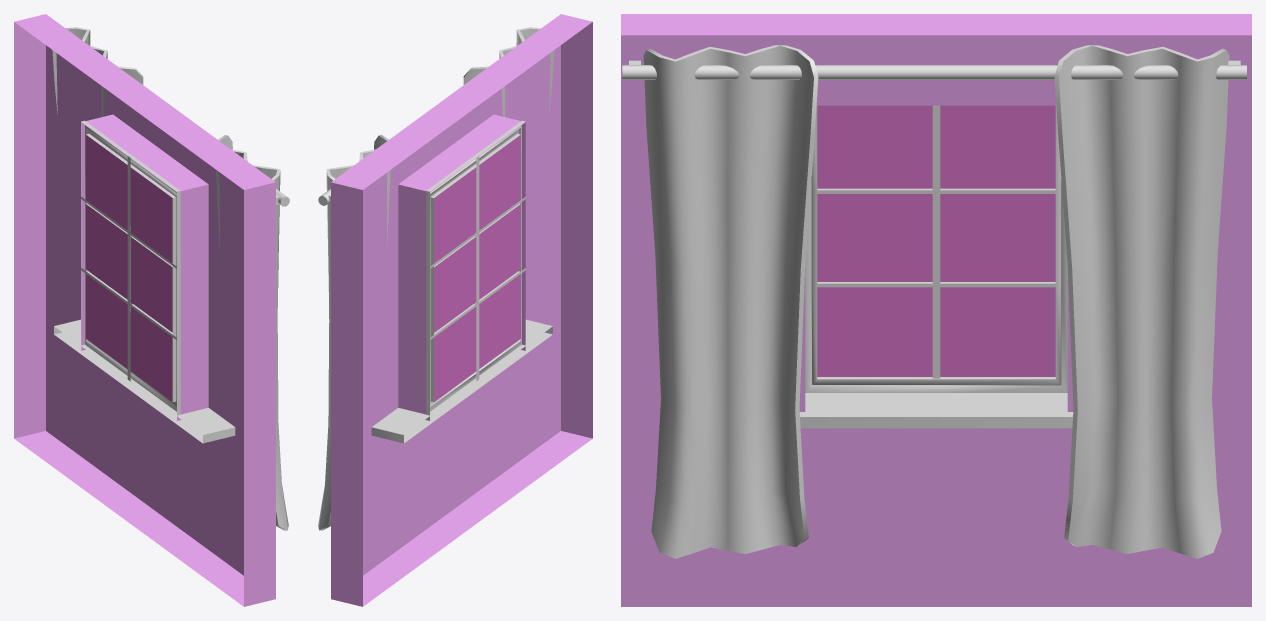
The model's file is Window_model.fbx.
3 renders of one model, left to right at view 1: azimuth 30°, elevation 25°; view 2: azimuth 150°, elevation 25°; view 3: azimuth 270°, elevation 25°, orthographic. The views are drawn at different scales.
Visible parts, largest first — view 1: Plane; view 2: Plane; view 3: Plane.
Boxes of the visible parts, x1=… form: Plane: x1=14, y1=14, x2=289, y2=606; Plane: x1=318, y1=14, x2=592, y2=606; Plane: x1=621, y1=14, x2=1251, y2=606.
Bounding box in the file's own units: 0.4099 × 2.5 × 2.5.
